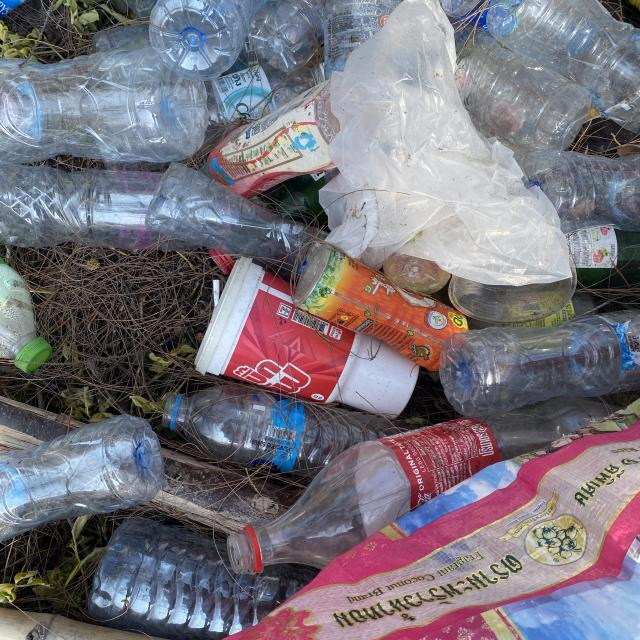Single-layer Plastic: (320, 0, 571, 286)
